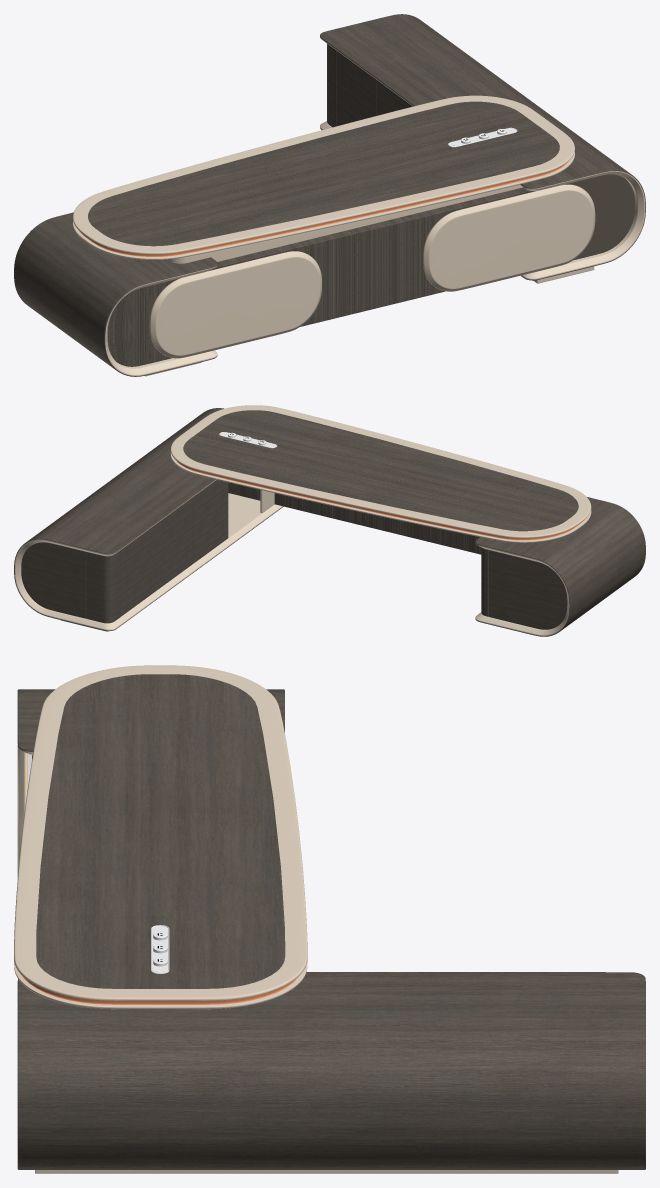
File: Office table.glb
3 renders of one model, top to bottom at view 1: azimuth 30°, elevation 25°; view 2: azimuth 150°, elevation 25°; view 3: azimuth 270°, elevation 25°, orthographic. The views are drawn at different scales.
Visible parts, largest first — view 1: a470e0af-9443-40b6-8cf3-69d0eca4c1af; view 2: a470e0af-9443-40b6-8cf3-69d0eca4c1af; view 3: a470e0af-9443-40b6-8cf3-69d0eca4c1af.
Boxes of the visible parts, x1,y1,x2,y2 form: a470e0af-9443-40b6-8cf3-69d0eca4c1af: (14,14,645,376); a470e0af-9443-40b6-8cf3-69d0eca4c1af: (14,405,645,636); a470e0af-9443-40b6-8cf3-69d0eca4c1af: (14,665,645,1173).
Size of the model in its own units: 3.6 by 0.765 by 2.47.
Materials: 9 (4 with a texture image).
